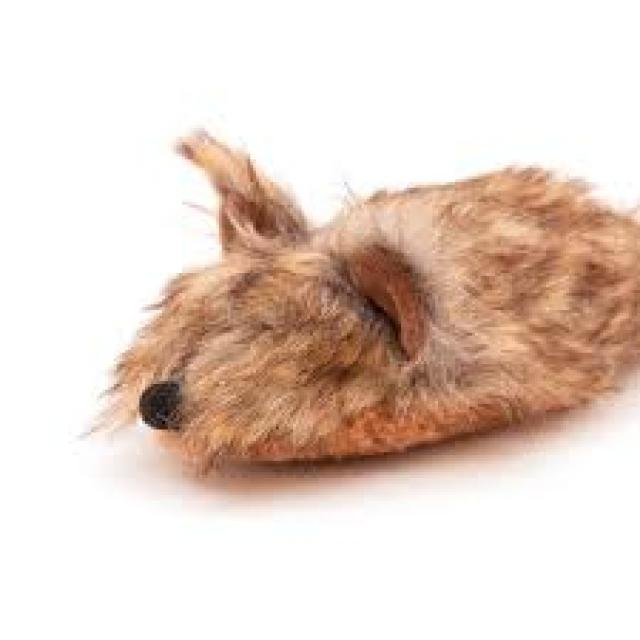rat: (80, 122, 637, 478)
